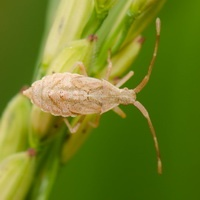insect: (23, 18, 161, 174)
